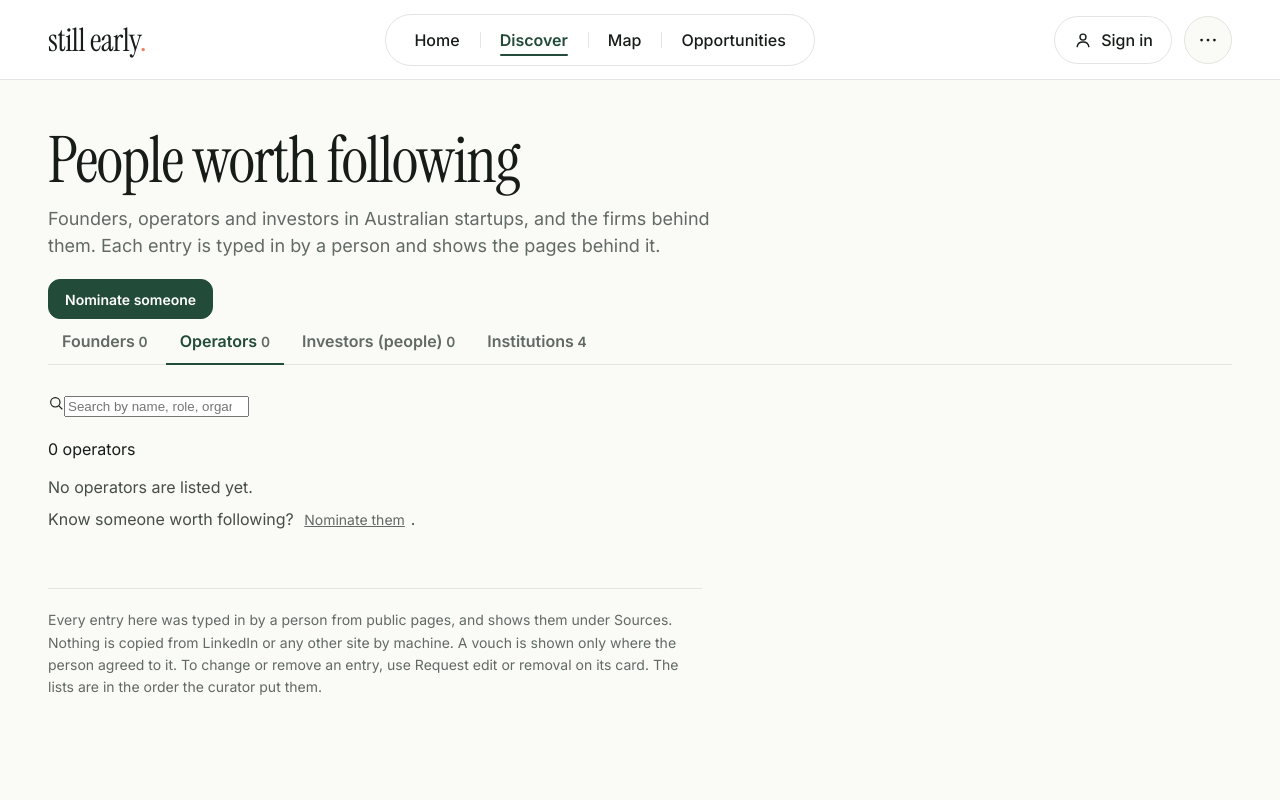
an index of names, a way to nominate, and a way to ask for more › offers to nominate someone in an empty tab
What coordinates should you click on to do the following:
click the button "Nominate them"
I would click on:
 (355, 520)
Its box is [298, 507, 411, 532].
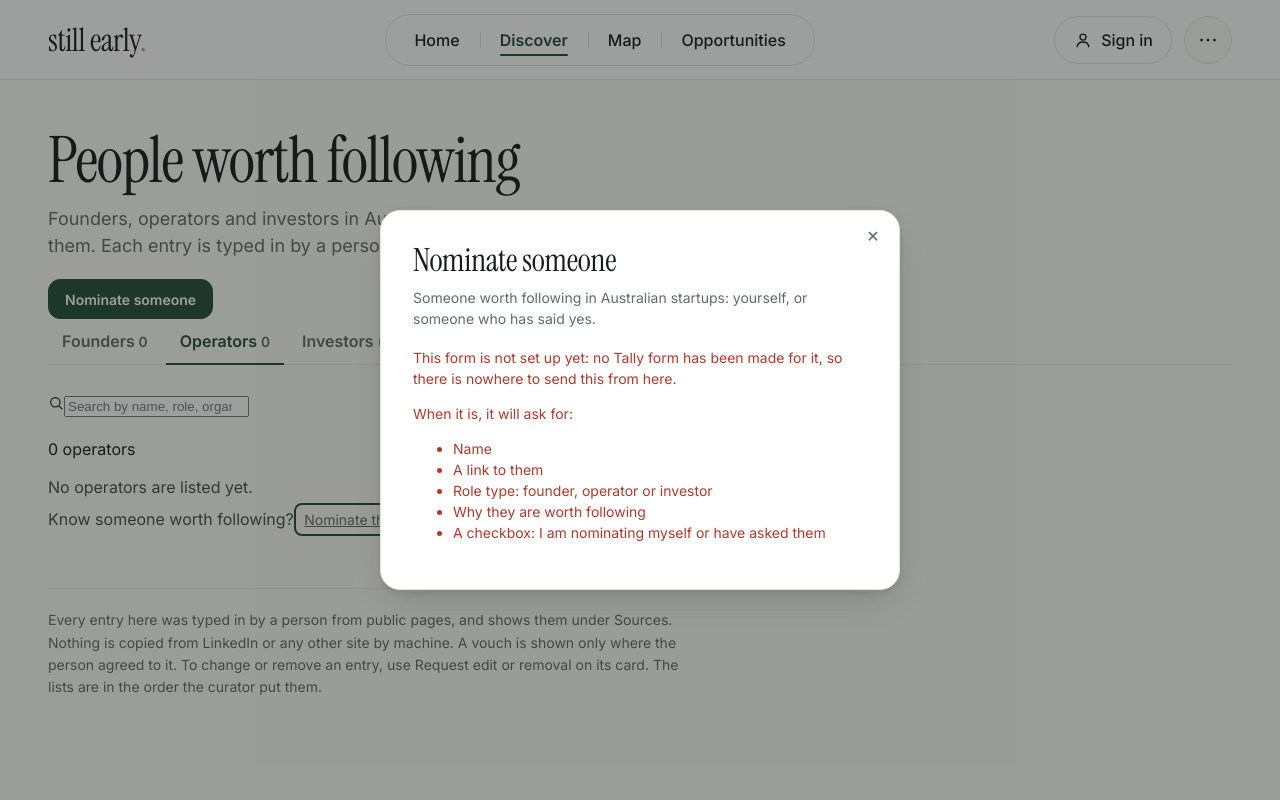
Now the dialog "Nominate someone" is shown, box [380, 210, 900, 590]
